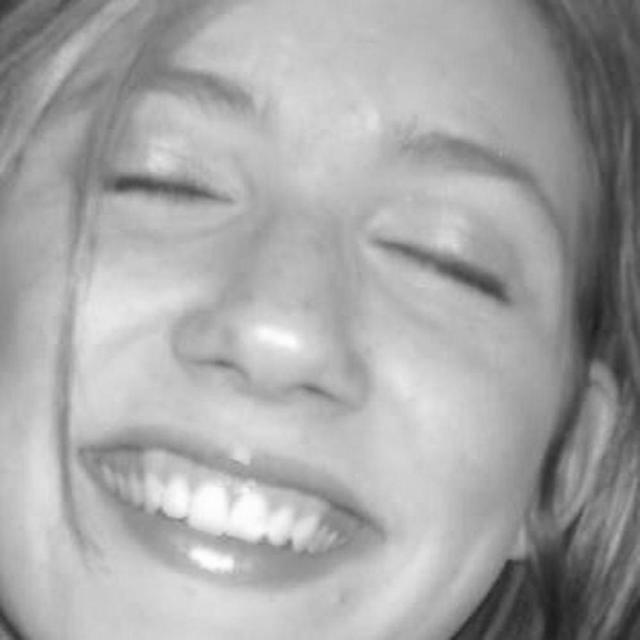real: (0, 35, 566, 640), (76, 132, 542, 324)
